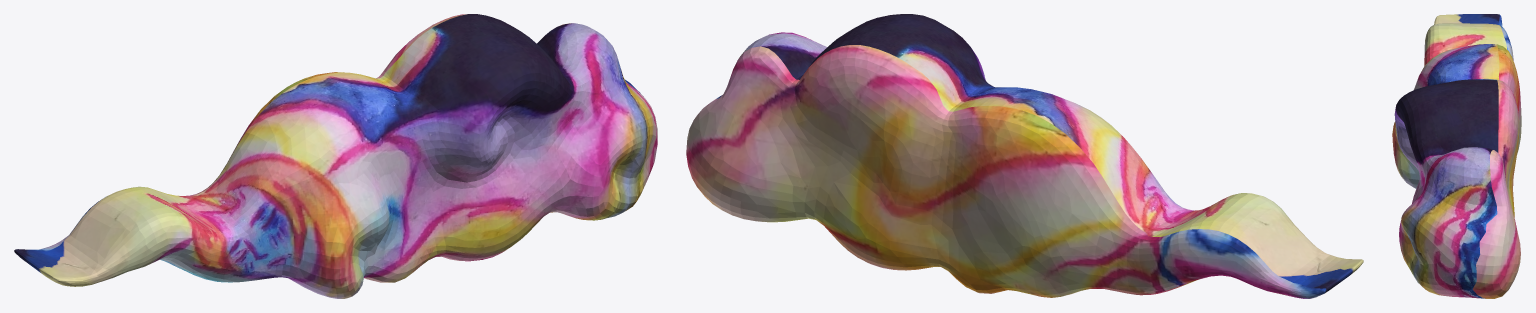
The model's file is cloud1.fbx.
3 renders of one model, left to right at view 1: azimuth 30°, elevation 25°; view 2: azimuth 150°, elevation 25°; view 3: azimuth 270°, elevation 25°, orthographic. The views are drawn at different scales.
Parts seen in each view (by area): view 1: CLOUD_LOW POLLY; view 2: CLOUD_LOW POLLY; view 3: CLOUD_LOW POLLY.
Boxes of the visible parts, x1,y1,x2,y2 form: CLOUD_LOW POLLY: (14, 14, 657, 298); CLOUD_LOW POLLY: (686, 14, 1363, 298); CLOUD_LOW POLLY: (1392, 14, 1521, 298).
Size of the model in its own units: 27.66 by 124 by 41.99.
